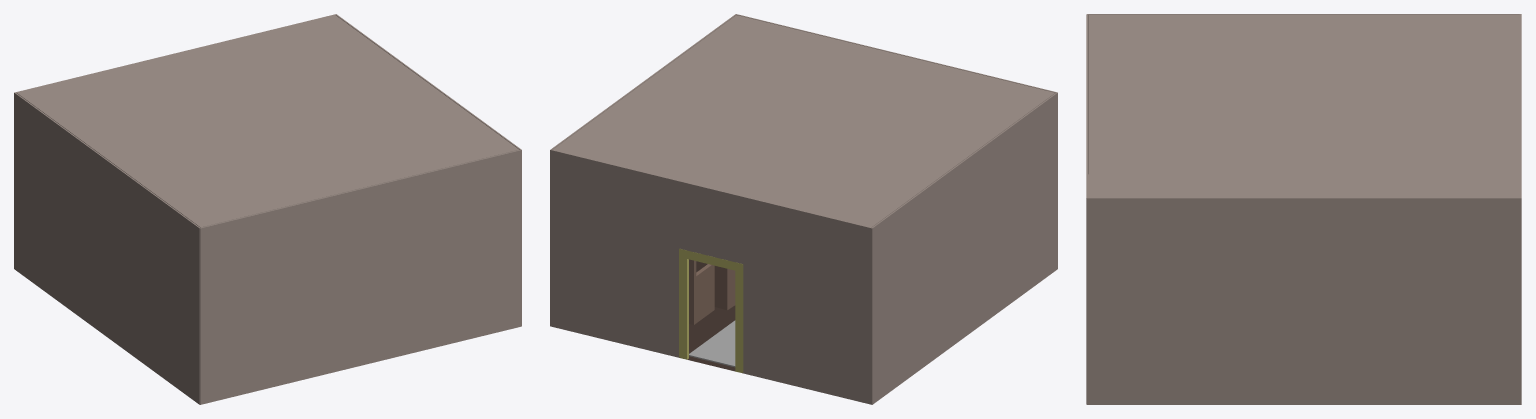
File: Room09_Chapel.fbx
3 renders of one model, left to right at view 1: azimuth 30°, elevation 25°; view 2: azimuth 150°, elevation 25°; view 3: azimuth 270°, elevation 25°, orthographic. The views are drawn at different scales.
Parts seen in each view (by area): view 1: Roof, WallPosZ, WallPosX, WallNegX; view 2: Roof, WallSlicedNegZ, WallPosX, DoorFrameNegZ, Floor, pCube70 (×2), pCube73, pCube71, WallNegX, WallPosZ; view 3: WallNegX, Roof, WallPosZ, WallPosX, WallSlicedNegZ.
Boxes of the visible parts, x1,y1,x2,y2 form: Roof: [17, 15, 518, 227]; WallPosZ: [200, 149, 521, 404]; WallPosX: [14, 92, 200, 404]; WallNegX: [335, 14, 521, 325]; Roof: [553, 15, 1054, 227]; WallSlicedNegZ: [550, 149, 872, 404]; WallPosX: [870, 92, 1057, 404]; DoorFrameNegZ: [679, 248, 743, 372]; Floor: [679, 305, 742, 373]; pCube70 (×2): [689, 259, 729, 324]; pCube73: [689, 320, 735, 367]; pCube71: [696, 264, 714, 322]; WallNegX: [550, 14, 735, 326]; WallPosZ: [736, 14, 1057, 92]; WallNegX: [1087, 197, 1521, 404]; Roof: [1088, 15, 1519, 197]; WallPosZ: [1086, 14, 1088, 404]; WallPosX: [1087, 14, 1521, 174]; WallSlicedNegZ: [1519, 14, 1521, 197].
Bounding box in the file's own units: 802 × 420 × 801.
